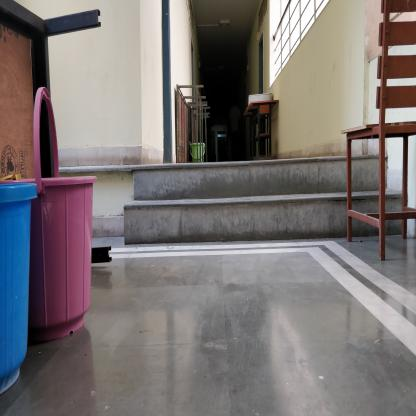stairs: (135, 154, 344, 252)
